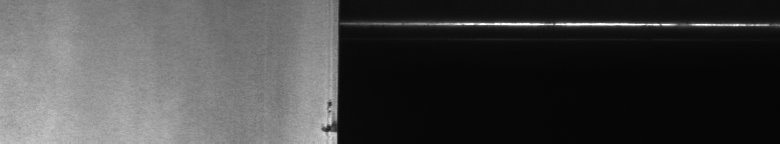hb: (316, 102, 328, 136)
